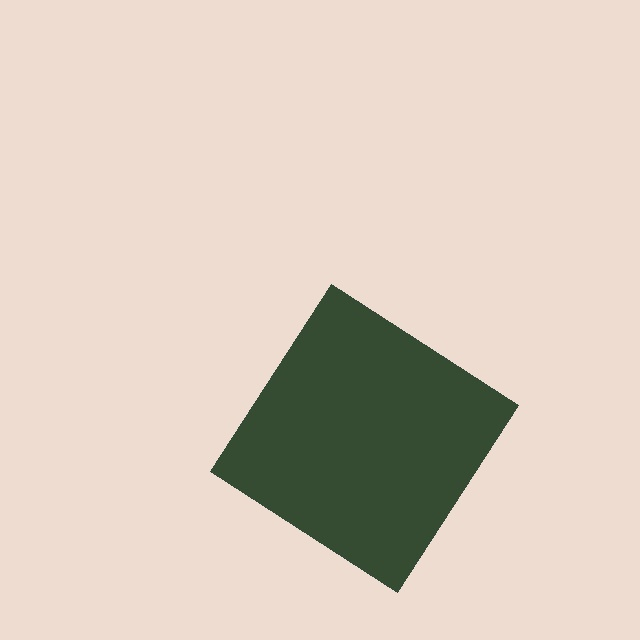square: (210, 284, 518, 592)
